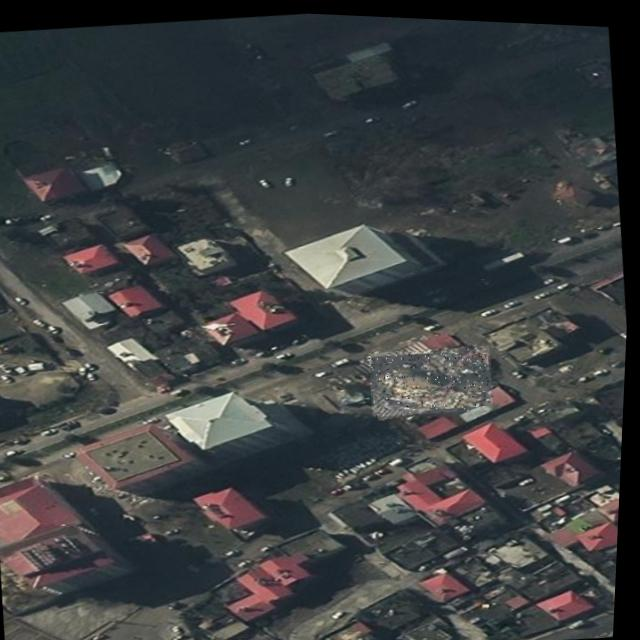Rubble: (368, 336, 498, 417)
